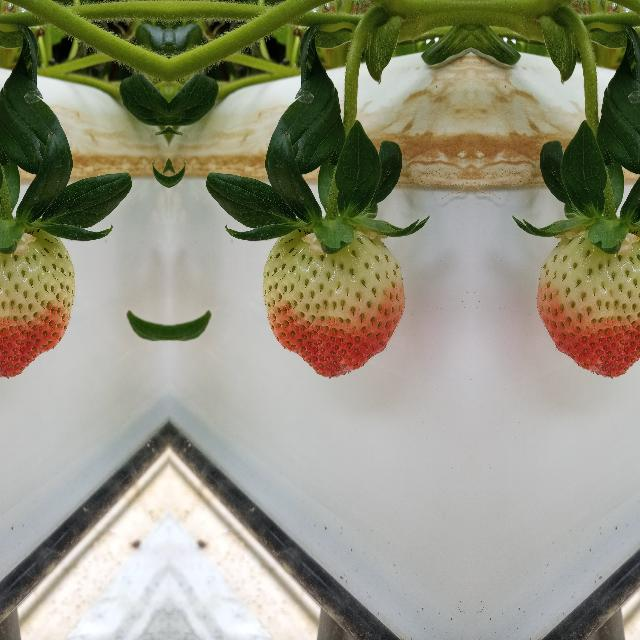Health_50: (261, 225, 405, 378), (536, 225, 640, 378), (0, 225, 75, 378)
